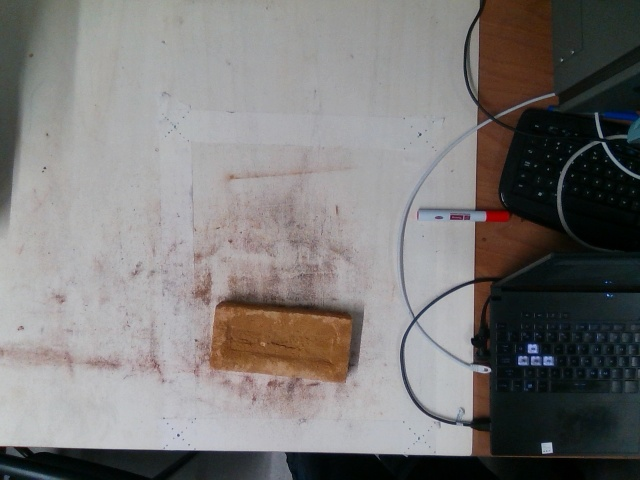brick: (210, 303, 350, 381)
